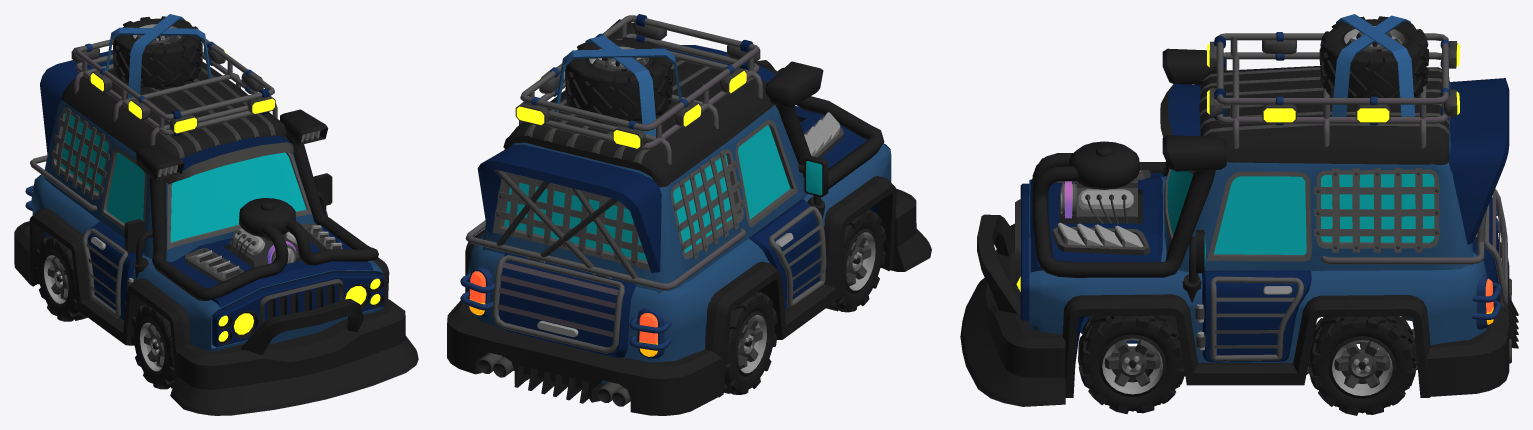
File: SVehicle12.fbx
3 renders of one model, left to right at view 1: azimuth 30°, elevation 25°; view 2: azimuth 150°, elevation 25°; view 3: azimuth 270°, elevation 25°, orthographic. The views are drawn at different scales.
Visible parts, largest first — view 1: SVehicle12, SV12_Parts, SV12_Wheel_FR, SV12_Wheel_BR; view 2: SVehicle12, SV12_Parts, SV12_Wheel_BR, SV12_Wheel_FR; view 3: SVehicle12, SV12_Wheel_BL, SV12_Wheel_FL, SV12_Parts.
Part boxes in pixels (bbox=[...]): SVehicle12: bbox=[14, 39, 418, 415]; SV12_Parts: bbox=[106, 14, 211, 98]; SV12_Wheel_FR: bbox=[131, 303, 175, 389]; SV12_Wheel_BR: bbox=[35, 235, 87, 321]; SVehicle12: bbox=[447, 14, 931, 415]; SV12_Parts: bbox=[554, 35, 681, 136]; SV12_Wheel_BR: bbox=[724, 291, 777, 394]; SV12_Wheel_FR: bbox=[826, 209, 886, 312]; SVehicle12: bbox=[960, 32, 1518, 406]; SV12_Wheel_BL: bbox=[1308, 316, 1416, 415]; SV12_Wheel_FL: bbox=[1078, 315, 1184, 413]; SV12_Parts: bbox=[1319, 14, 1428, 116].
Bounding box in the file's own units: 271 × 289 × 455.
1 material, 1 textured.
